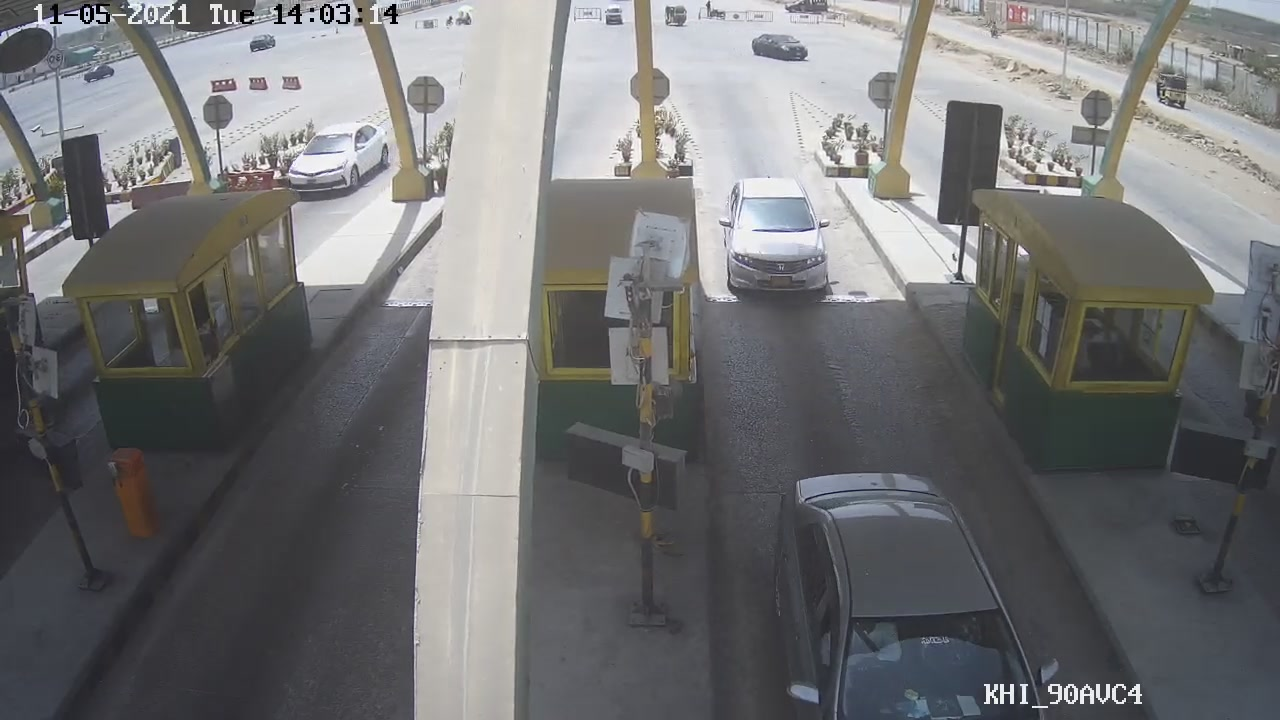F1: (716, 172, 845, 308)
